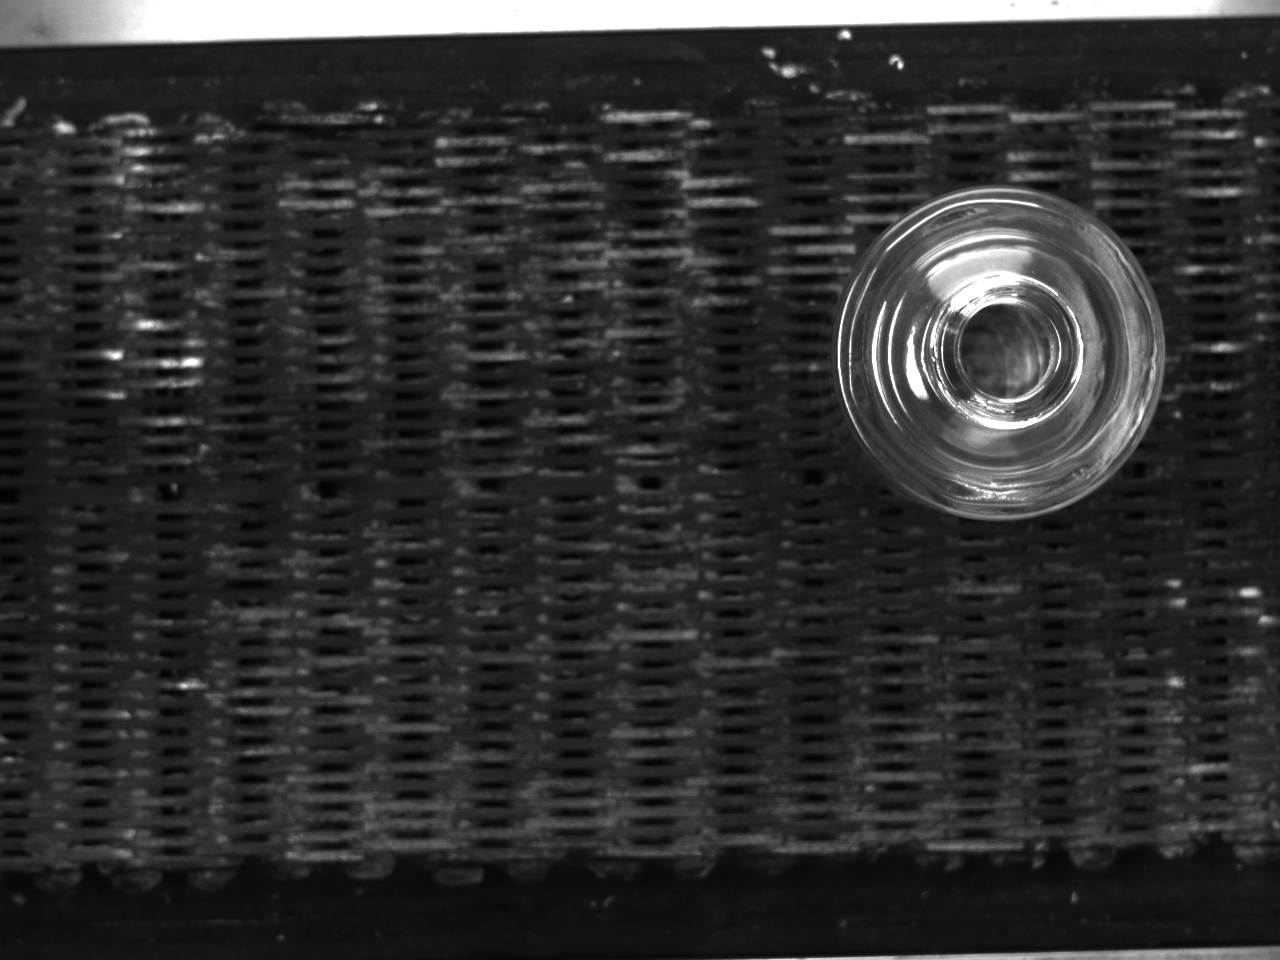bottleneck: (940, 272, 1084, 428)
